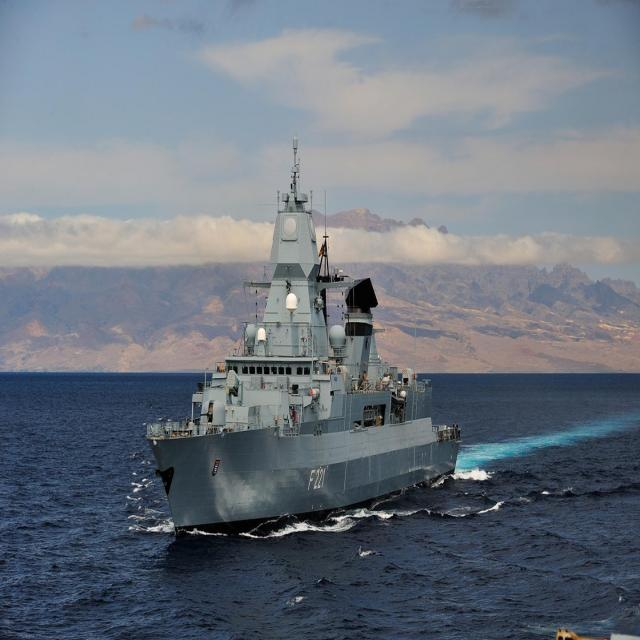Fragata: (147, 1, 466, 358)
